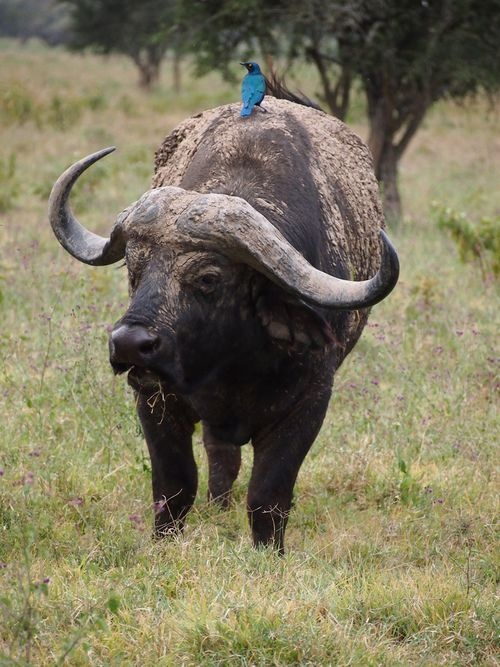buffalo: (47, 95, 401, 553)
